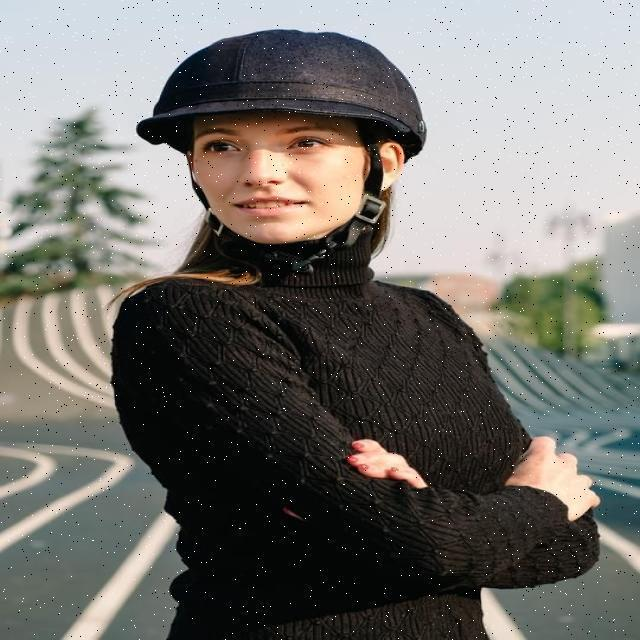helmet: (138, 30, 430, 256)
